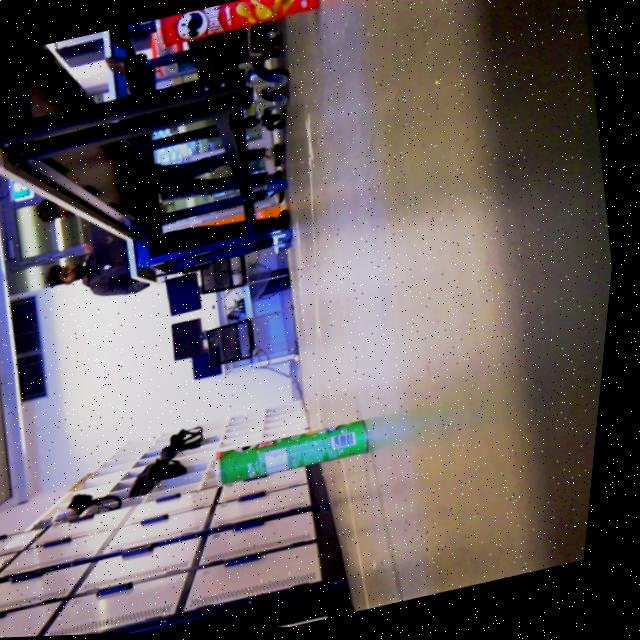greenpringles: (205, 410, 399, 506)
redpringles: (145, 0, 331, 67)
